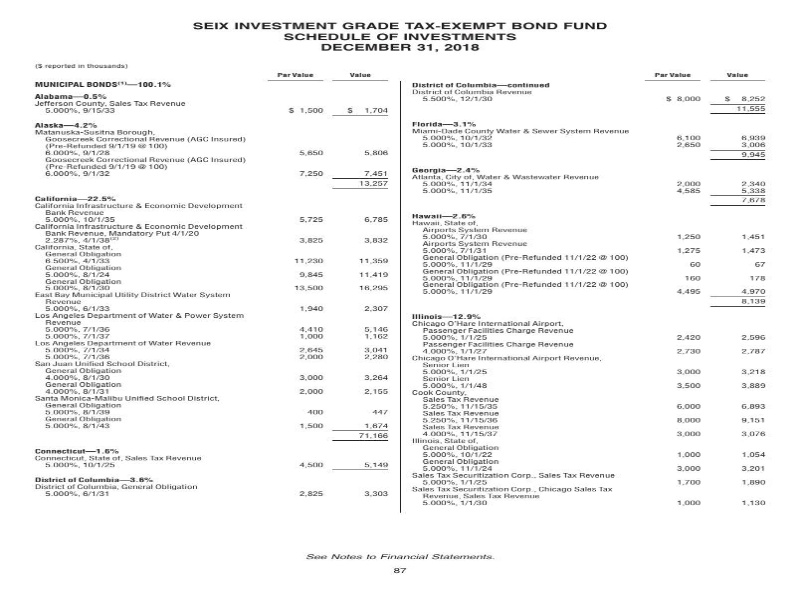table: (391, 66, 787, 517), (25, 57, 407, 517)
